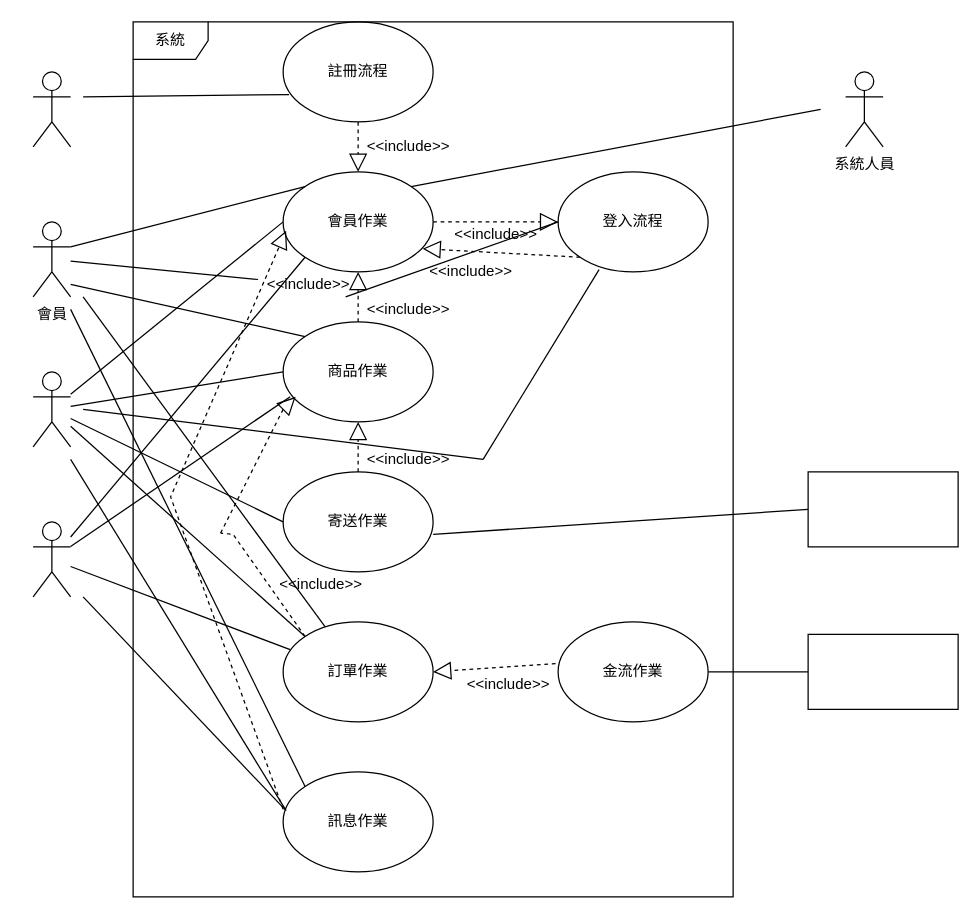
Some shapes in this 980 by 919 pixel diagram are drawn without their labels. Here are the shapes that lost their labels. From the top down, the centre of each, then its label:
At (51,109): "用戶".
At (51,409): "賣家".
At (882,509): "<<Actor>> 貨運公司".
At (51,559): "客服人員".
At (882,671): "<<Actor>> 銀行".
